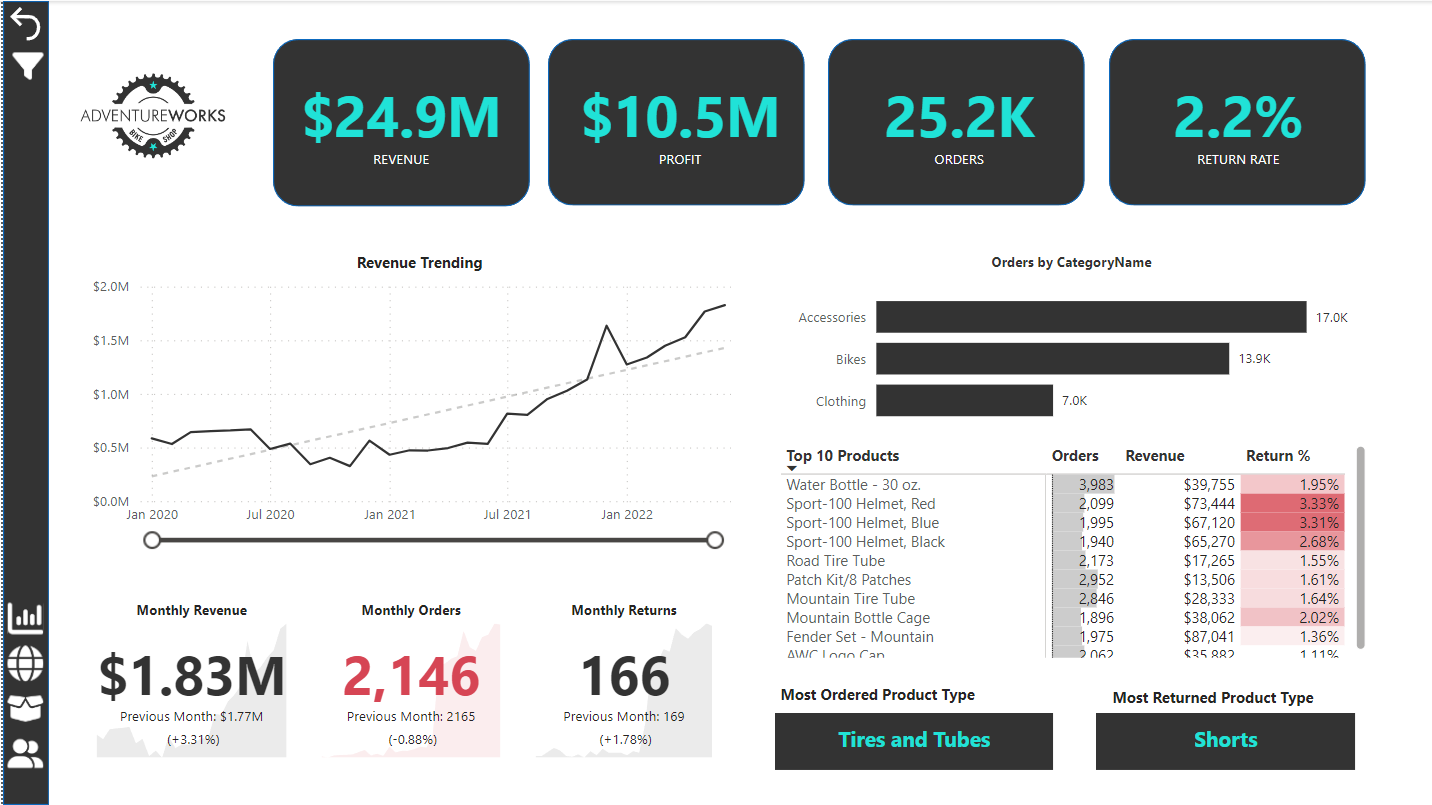

The page's visual inventory and layout, read from the dashboard file:
{"tool":"powerbi","page":{"name":"Executive Dashboard","canvas":[1280,720],"ordinal":0},"visuals":[{"type":"card","fields":{"Values":["Measure Table.Total Revenue"]},"box":[241.9,33.3,229.8,150.2],"z":0,"group":"g2"},{"type":"group","id":"g1","title":"KPI Background","box":[241.9,34.3,979.7,150.2],"z":0,"group":"g3"},{"type":"shape","box":[241.9,34.6,230,150],"z":0,"group":"g1"},{"type":"image","title":"AW Logo","box":[50.1,34.9,169.3,136.1],"z":0},{"type":"actionButton","box":[0,573.5,41.2,40.3],"z":0,"group":"g4"},{"type":"shape","title":"Left Nav Background","box":[0,0,41.2,720],"z":1000},{"type":"group","id":"g2","title":"KPI Values","box":[241.9,33.3,979.7,150.2],"z":1000,"group":"g3"},{"type":"card","fields":{"Values":["Measure Table.Total Profit"]},"box":[491.9,33.3,229.8,150.2],"z":1000,"group":"g2"},{"type":"shape","box":[487.8,34.6,229.8,149.2],"z":1000,"group":"g1"},{"type":"actionButton","box":[0,533.2,41.2,40.3],"z":1000,"group":"g4"},{"type":"group","id":"g3","title":"KPIs","box":[241.9,33.3,979.7,151.2],"z":2000},{"type":"card","fields":{"Values":["Measure Table.Total Orders"]},"box":[741.8,33.3,229.8,150.2],"z":2000,"group":"g2"},{"type":"shape","box":[738.8,34.3,229.8,149.2],"z":2000,"group":"g1"},{"type":"actionButton","box":[0,654.1,41.2,40.3],"z":2000,"group":"g4"},{"type":"card","fields":{"Values":["Measure Table.Return Rate"]},"box":[991.8,33.3,229.8,150.2],"z":3000,"group":"g2"},{"type":"shape","box":[990.8,34.3,229.8,149.2],"z":3000,"group":"g1"},{"type":"lineChart","title":"Revenue Trending","fields":{"Y":["Measure Table.Total Revenue"],"Category":["Calendar Lookup.Start of Month"]},"box":[75.6,224.8,595.7,269.1],"z":3000},{"type":"actionButton","box":[0,613.8,41.2,40.3],"z":3000,"group":"g4"},{"type":"kpi","title":"Monthly Revenue","fields":{"Indicator":["Measure Table.Total Revenue"],"TrendLine":["Calendar Lookup.Start of Month"],"Goal":["Measure Table.Previous Month Revenue"]},"box":[78.6,536.2,180.4,146.1],"z":4000},{"type":"kpi","title":"Monthly Orders","fields":{"TrendLine":["Calendar Lookup.Start of Month"],"Indicator":["Measure Table.Total Orders"],"Goal":["Measure Table.Previous Month Orders"]},"box":[280.2,536.2,170.3,146.1],"z":5000},{"type":"kpi","title":"Monthly Returns","fields":{"TrendLine":["Calendar Lookup.Start of Month"],"Indicator":["Measure Table.Total Returns"],"Goal":["Measure Table.Previous Month Returns"]},"box":[471.7,536.2,168.3,146.1],"z":6000},{"type":"clusteredBarChart","title":" Orders by CategoryName","fields":{"Category":["Product Categories Lookup.CategoryName"],"Y":["Measure Table.Total Orders"]},"box":[702.4,224.5,509.8,168.6],"z":7000},{"type":"pivotTable","fields":{"Rows":["Product Lookup.ProductName"],"Values":["Measure Table.Total Orders","Measure Table.Total Revenue","Measure Table.Return Rate"]},"box":[691.3,393.1,533.7,199.7],"z":8000},{"type":"card","fields":{"Values":["Min(Product Subcategories Lookup.SubcategoryName)"]},"box":[691.4,637.5,249.4,50.9],"z":9000},{"type":"textbox","box":[691.4,607.6,195.5,32.9],"z":10000},{"type":"card","fields":{"Values":["Min(Product Subcategories Lookup.SubcategoryName)"]},"box":[978.7,637.5,232.5,50.9],"z":11000},{"type":"textbox","box":[988.7,609.6,207.5,33.9],"z":12000},{"type":"actionButton","box":[0,0,41.2,40.3],"z":13000},{"type":"group","id":"g4","title":"Navigation Buttons","box":[0,533.2,41.3,161.3],"z":14000},{"type":"actionButton","box":[4.5,40.3,36.7,35.8],"z":15000}]}

Visuals, with their boxes on the page's 1280x720 design canvas (x1, y1, x2, y2). These are canvas units, not pixel positions in the 1432x805 screenshot, which may show the page scaled, cropped or inside an application window:
card - Measure Table.Total Revenue: (242,33,472,184)
"KPI Background" group: (242,34,1222,184)
shape: (242,35,472,185)
"AW Logo" image: (50,35,219,171)
actionButton: (0,574,41,614)
"Left Nav Background" shape: (0,0,41,720)
"KPI Values" group: (242,33,1222,184)
card - Measure Table.Total Profit: (492,33,722,184)
shape: (488,35,718,184)
actionButton: (0,533,41,574)
"KPIs" group: (242,33,1222,184)
card - Measure Table.Total Orders: (742,33,972,184)
shape: (739,34,969,184)
actionButton: (0,654,41,694)
card - Measure Table.Return Rate: (992,33,1222,184)
shape: (991,34,1221,184)
"Revenue Trending" lineChart: (76,225,671,494)
actionButton: (0,614,41,654)
"Monthly Revenue" kpi: (79,536,259,682)
"Monthly Orders" kpi: (280,536,450,682)
"Monthly Returns" kpi: (472,536,640,682)
" Orders by CategoryName" clusteredBarChart: (702,224,1212,393)
pivotTable - Product Lookup.ProductName x Measure Table.Total Orders: (691,393,1225,593)
card - Min(Product Subcategories Lookup.SubcategoryName): (691,638,941,688)
textbox: (691,608,887,640)
card - Min(Product Subcategories Lookup.SubcategoryName): (979,638,1211,688)
textbox: (989,610,1196,644)
actionButton: (0,0,41,40)
"Navigation Buttons" group: (0,533,41,694)
actionButton: (4,40,41,76)
